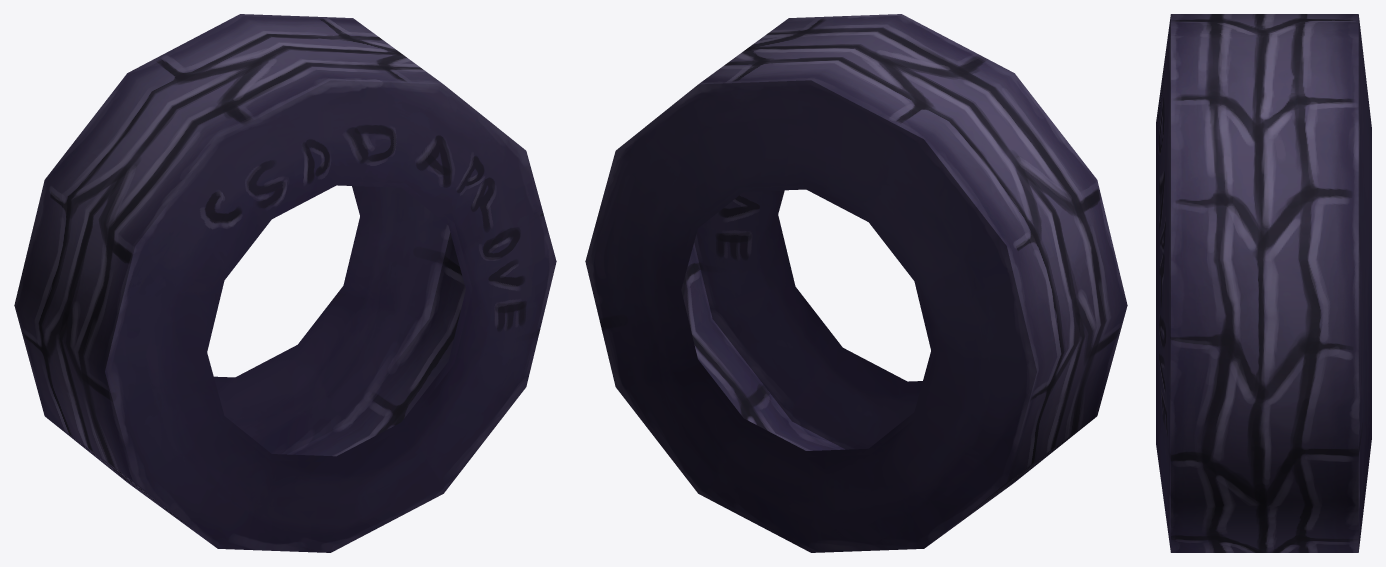
File: car_wheel.fbx
3 views of the same model, side by side, from view 1: azimuth 30°, elevation 25°; view 2: azimuth 150°, elevation 25°; view 3: azimuth 270°, elevation 25° (orthographic). The views are drawn at different scales.
Visible parts, largest first — view 1: car_wheel; view 2: car_wheel; view 3: car_wheel.
Boxes of the visible parts, x1,y1,x2,y2 form: car_wheel: [14, 14, 556, 552]; car_wheel: [585, 14, 1127, 552]; car_wheel: [1156, 14, 1371, 552].
Bounding box in the file's own units: 2 × 2 × 0.7983.
Materials: 1 (1 with a texture image).
